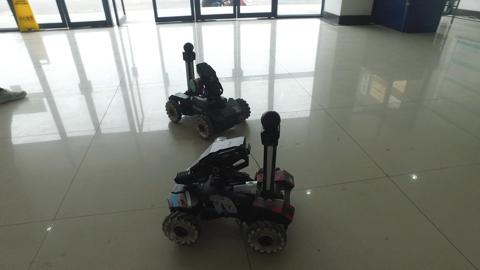chariot: (154, 107, 300, 258), (165, 39, 254, 144)
